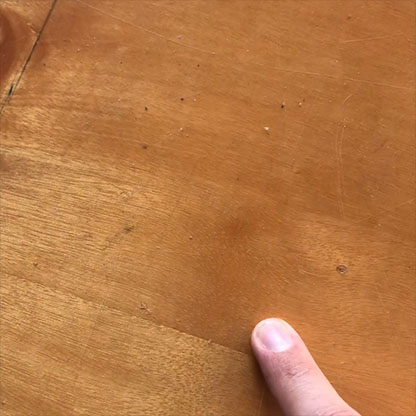fingertip: (239, 307, 317, 375)
